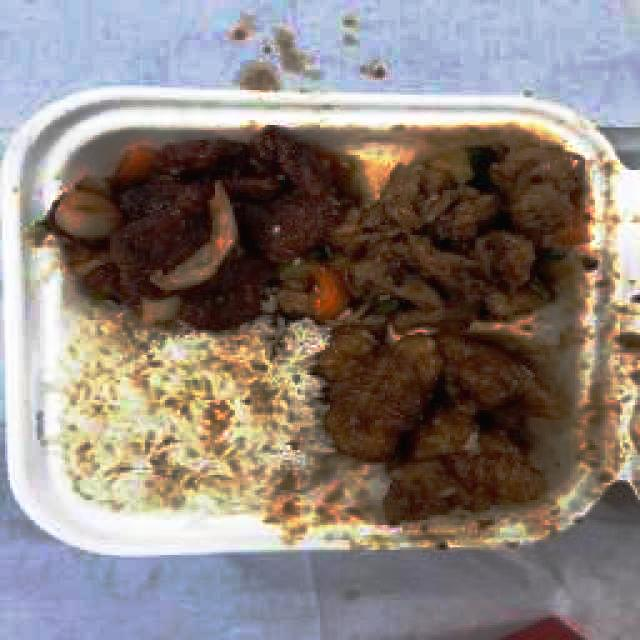Beijing Beef: (55, 126, 356, 318)
Kung Pao Chicken: (358, 135, 580, 319)
rice: (64, 328, 319, 503)
